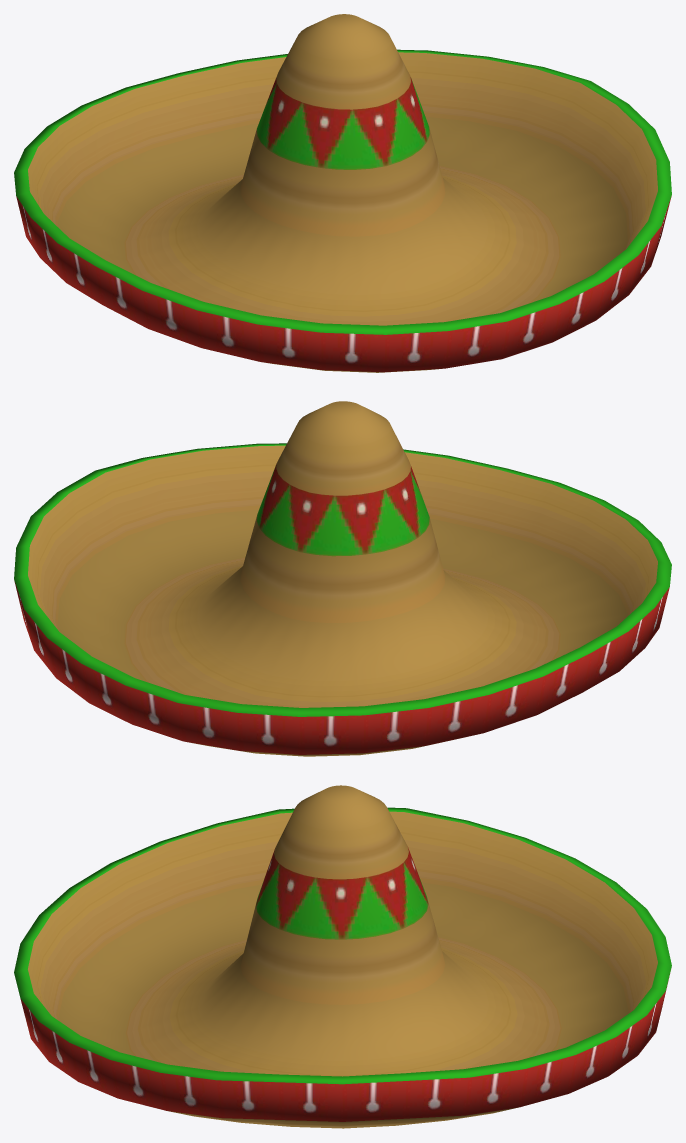
Rendered from Mexican Sombrero.fbx.
3 views of the same model, one above another, from view 1: azimuth 30°, elevation 25°; view 2: azimuth 150°, elevation 25°; view 3: azimuth 270°, elevation 25° (orthographic).
Visible parts, largest first — view 1: Mexican Sombrero; view 2: Mexican Sombrero; view 3: Mexican Sombrero.
Boxes of the visible parts, box(x1,y1,x2,y2) form: Mexican Sombrero: box(14, 14, 671, 372); Mexican Sombrero: box(14, 401, 671, 756); Mexican Sombrero: box(14, 785, 671, 1128).
Size of the model in its own units: 444 by 180 by 444.
